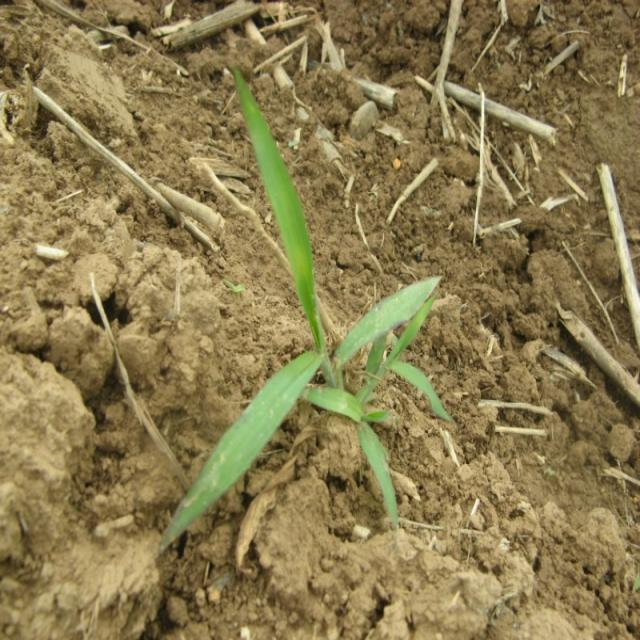bg: (163, 53, 445, 555)
